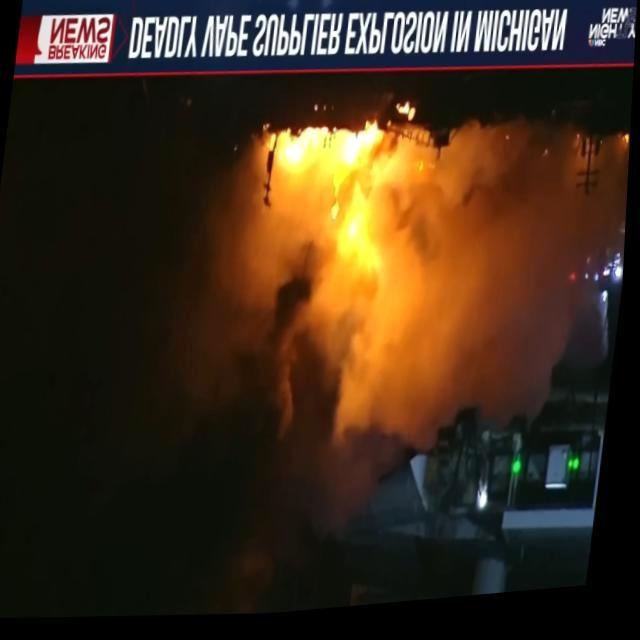fire: (168, 79, 610, 561)
